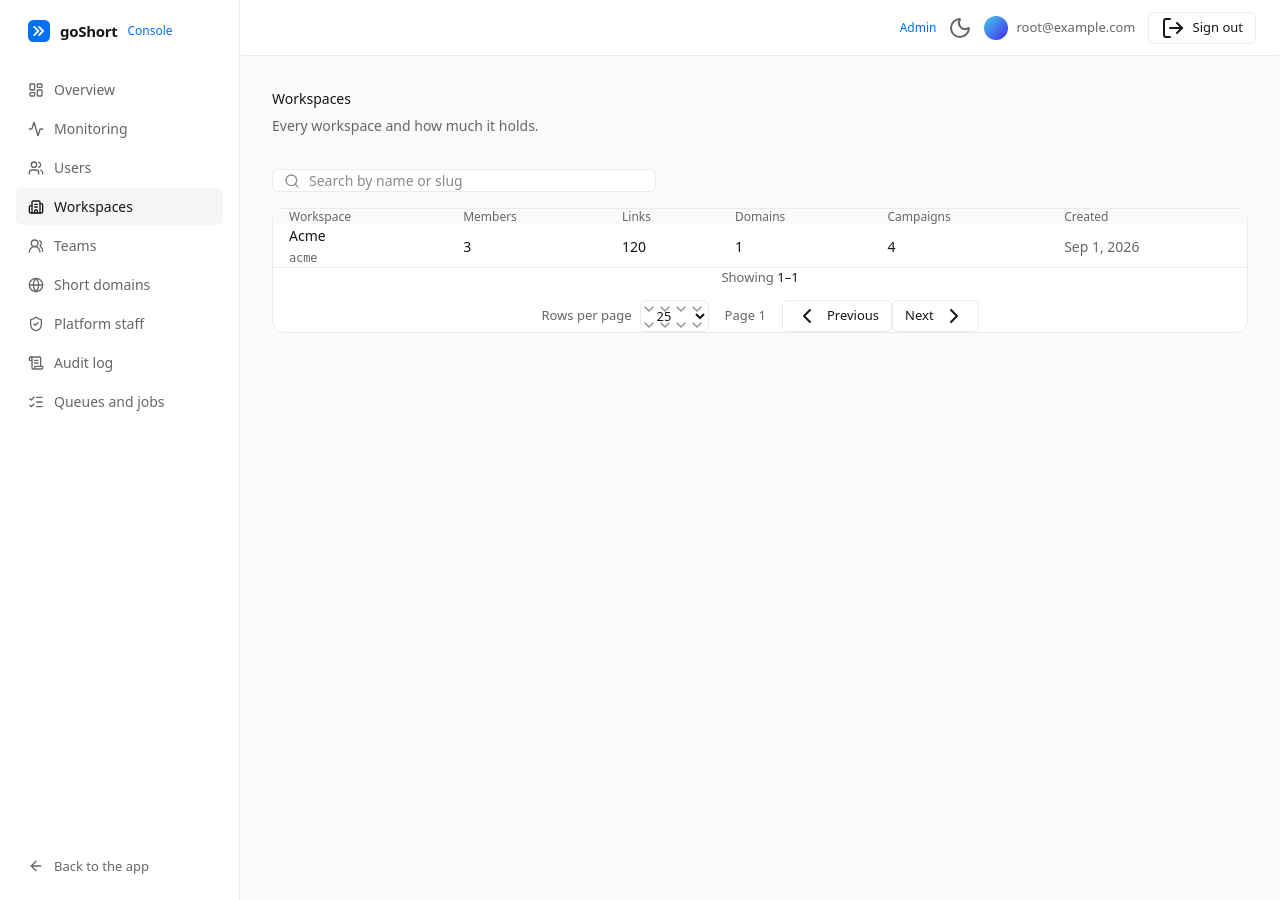
Test: workspaces, teams and audit › lists workspaces and shows one in detail
Click the link "Acme" at x=307, y=236, box [289, 226, 326, 245]
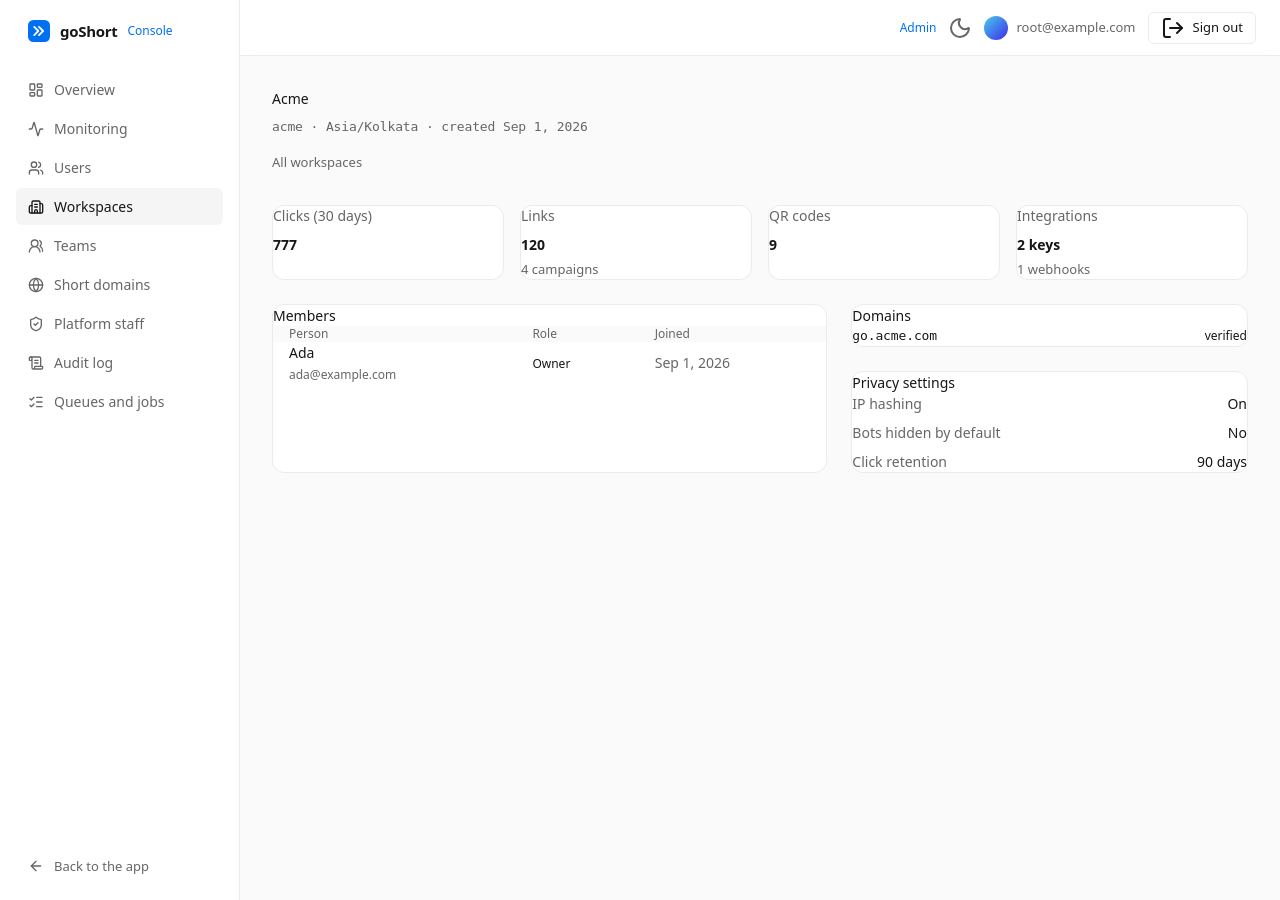
expect the heading "Acme" is shown: met, box [272, 89, 309, 108]
expect the text "777" is shown: met, box [273, 234, 297, 254]
expect the text "go.acme.com" is shown: met, box [852, 326, 937, 346]
